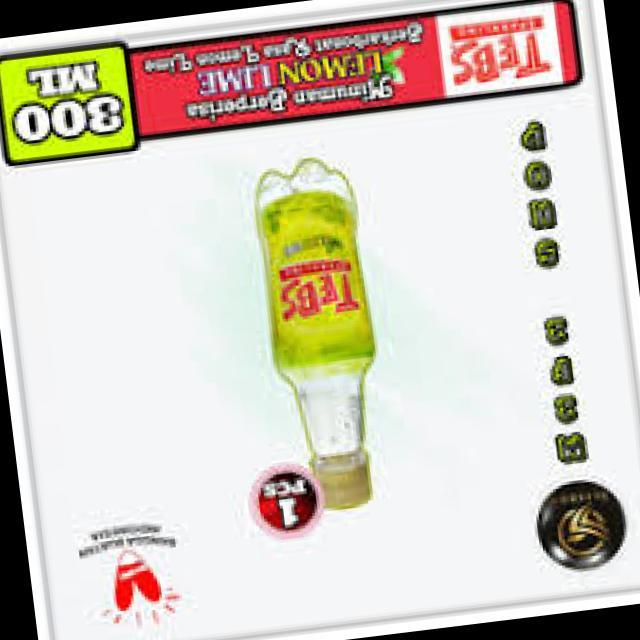good: (205, 120, 421, 540)
